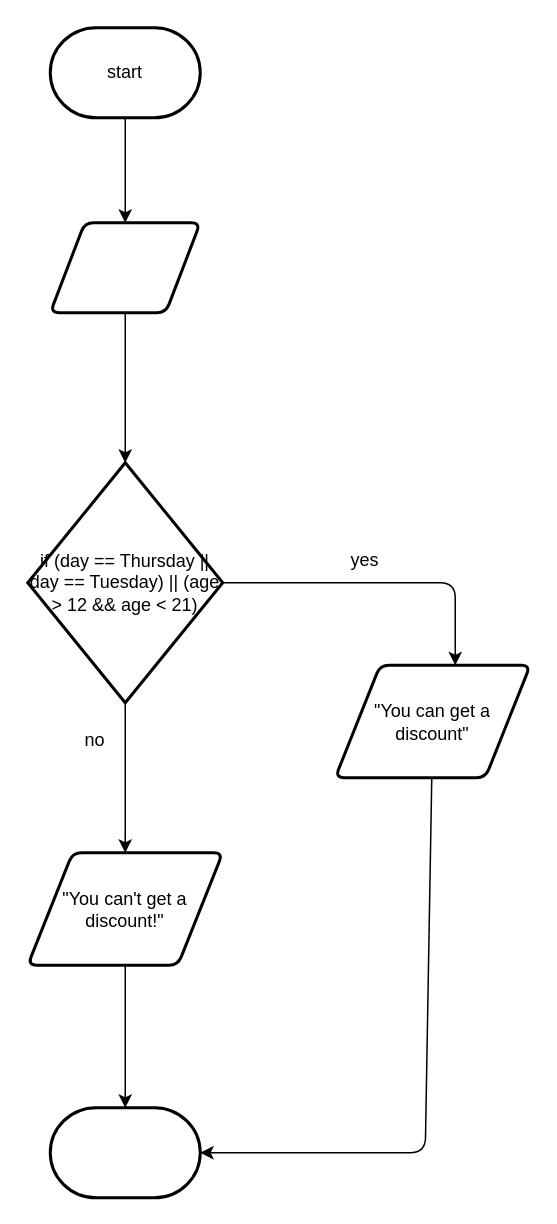
This 557x1224 diagram has some shape labels left out. The box of each missing label's shape, as (x1, y1, x2, y2) in pixels:
Enter age and day of the week: (48, 220, 201, 314)
stop: (48, 1106, 201, 1198)
